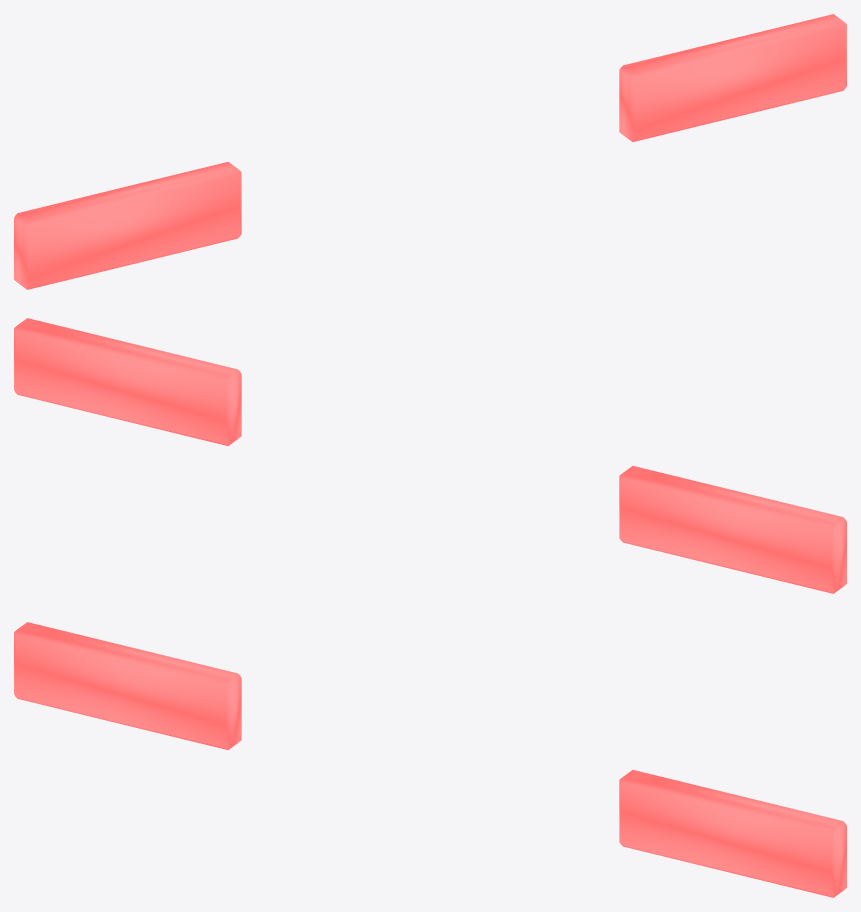
File: Neon_Auto_Stop.fbx
The picture shows the model from 3 angles, top to bottom: view 1: azimuth 30°, elevation 25°; view 2: azimuth 150°, elevation 25°; view 3: azimuth 330°, elevation 25°; orthographic projection.
Visible parts, largest first — view 1: Auto_Stop; view 2: Auto_Stop; view 3: Auto_Stop.
Boxes of the visible parts, x1,y1,x2,y2 form: Auto_Stop: [14, 14, 846, 289]; Auto_Stop: [14, 318, 846, 593]; Auto_Stop: [14, 622, 846, 897].
Size of the model in its own units: 6.8 by 0.55 by 0.2.
